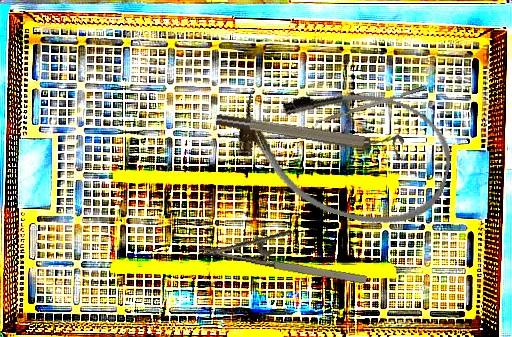Cannula: (224, 62, 464, 241)
Chopper: (311, 85, 427, 131)
Fixation Ring: (215, 102, 405, 162)
Needle Holder: (198, 213, 373, 289)
